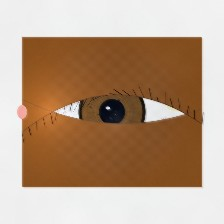pinguecula_lesion: (156, 89, 200, 124)
